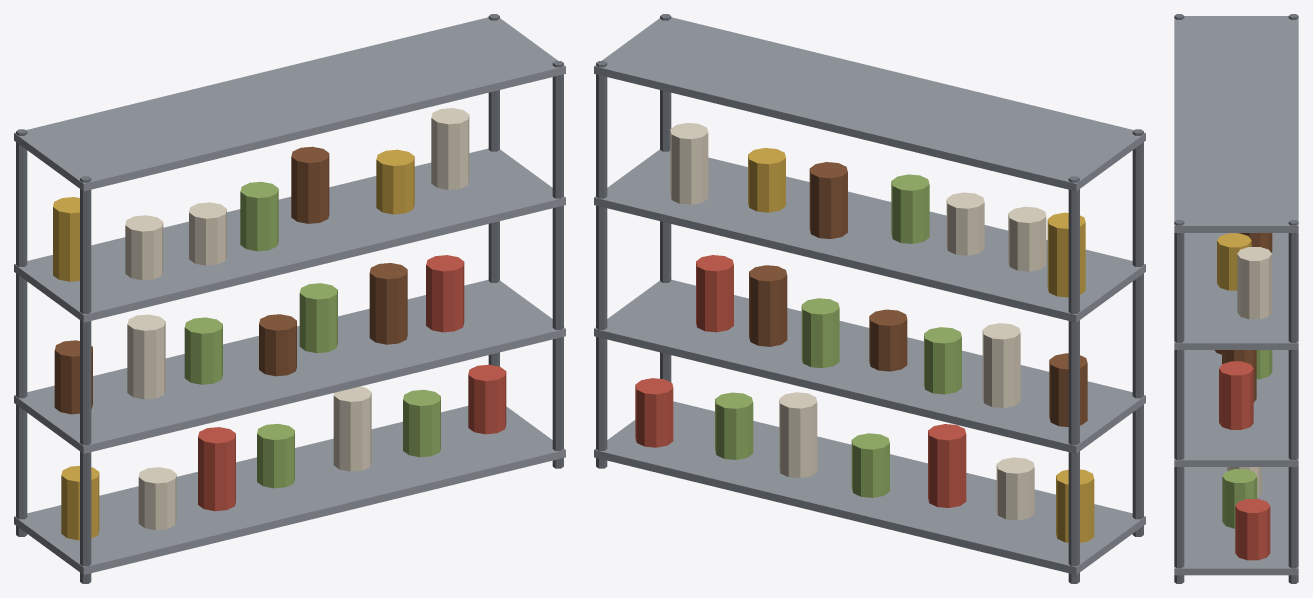
File: shelf_unit.fbx
3 renders of one model, left to right at view 1: azimuth 30°, elevation 25°; view 2: azimuth 150°, elevation 25°; view 3: azimuth 270°, elevation 25°, orthographic. The views are drawn at different scales.
Visible parts, largest first — view 1: shelf_unit; view 2: shelf_unit; view 3: shelf_unit.
Part boxes in pixels (x1,y1,x2,y2): shelf_unit: (14,14,565,583); shelf_unit: (594,14,1145,583); shelf_unit: (1174,14,1298,583).
Size of the model in its own units: 2 by 1.6 by 0.5.
